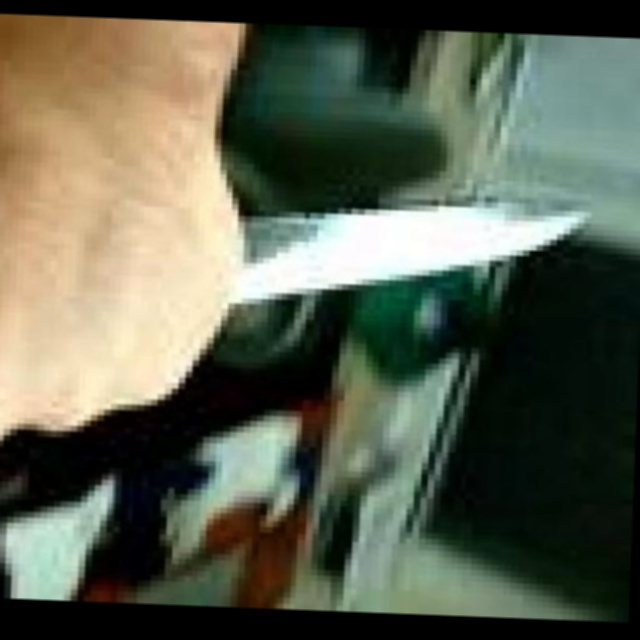Sharp-Object: (234, 195, 592, 319)
